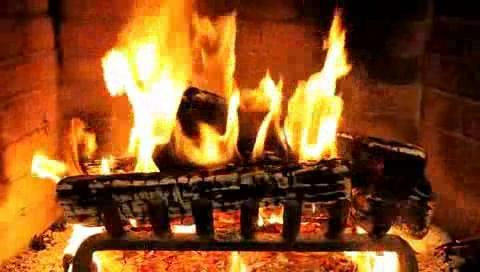fire: (87, 0, 353, 169)
